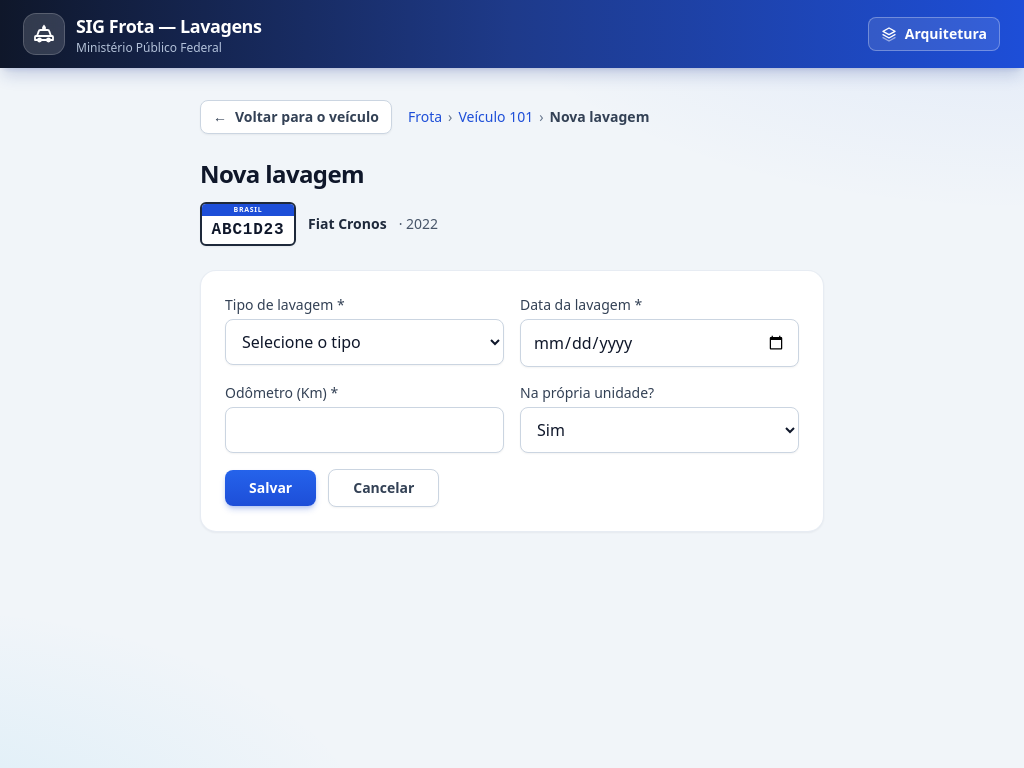
Test: LavagemFormPage — estados de salvamento (Req. 8.6/8.7) › Req. 8.7: falha mantém os dados, exibe toast de erro, NÃO navega e reabilita o botão
Select "Completa" in the dropdown labelled "Tipo de lavagem *" at (364, 342), box [225,319,504,365]
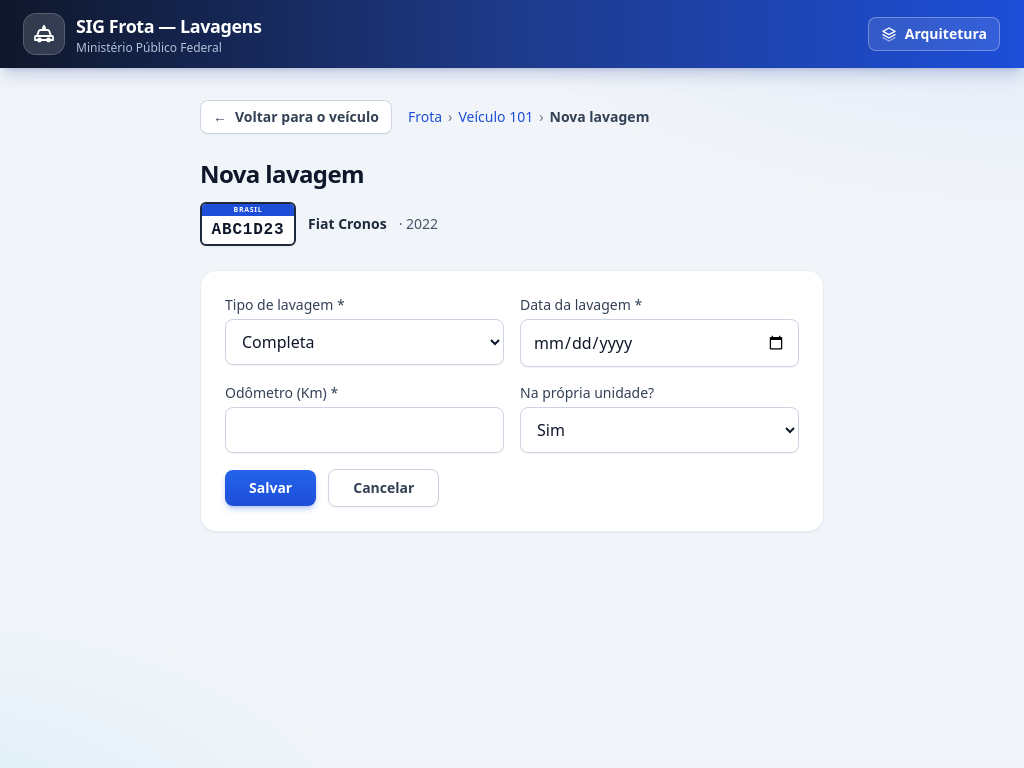
Type "2026-10-10" into the date field labelled "Data da lavagem *".
click(660, 343); type("2026-10-10")  # box [520,319,799,367]
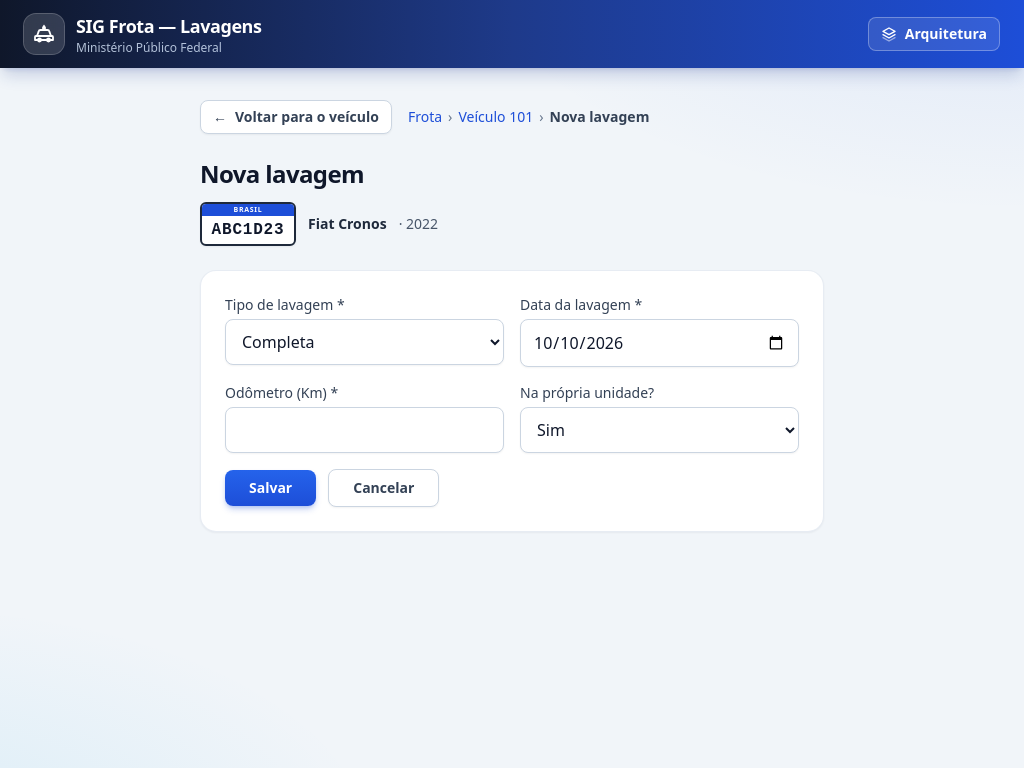
Type "46000" into the number field labelled "Odômetro (Km) *".
click(364, 430); type("46000")  # box [225,407,504,453]
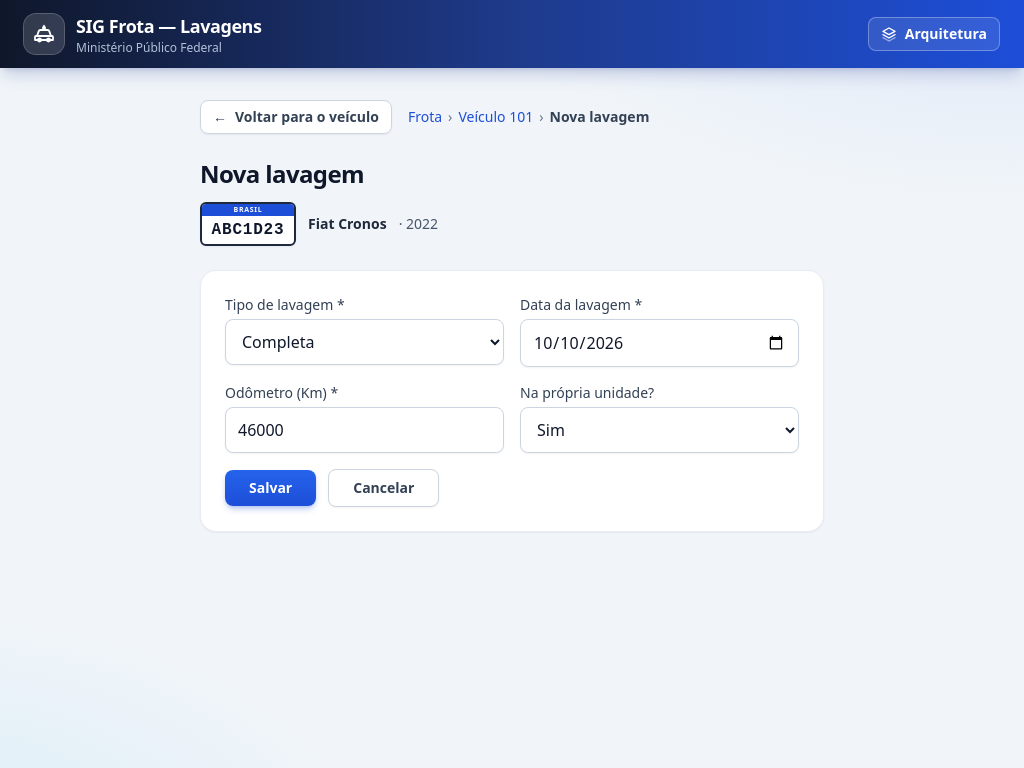
Click the button "Salvar".
click(271, 488)  # box [225,470,316,506]
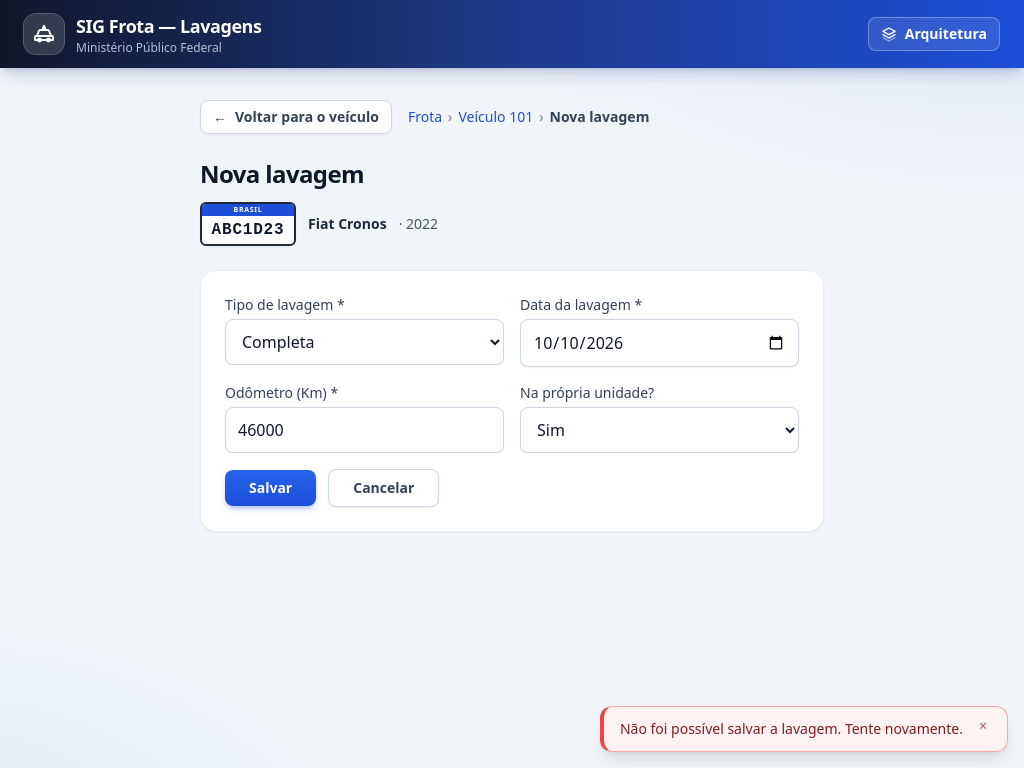
Result: the text "Não foi possível salvar a lavagem. Tente novamente." is shown at [620,719,963,739]
